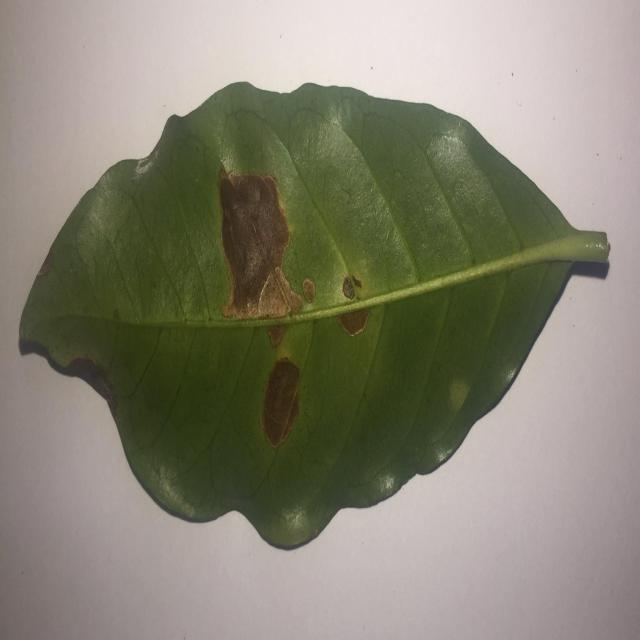miner: (218, 171, 302, 319), (262, 358, 300, 448), (338, 309, 370, 336), (342, 275, 362, 300), (302, 276, 321, 302), (267, 327, 285, 343)
